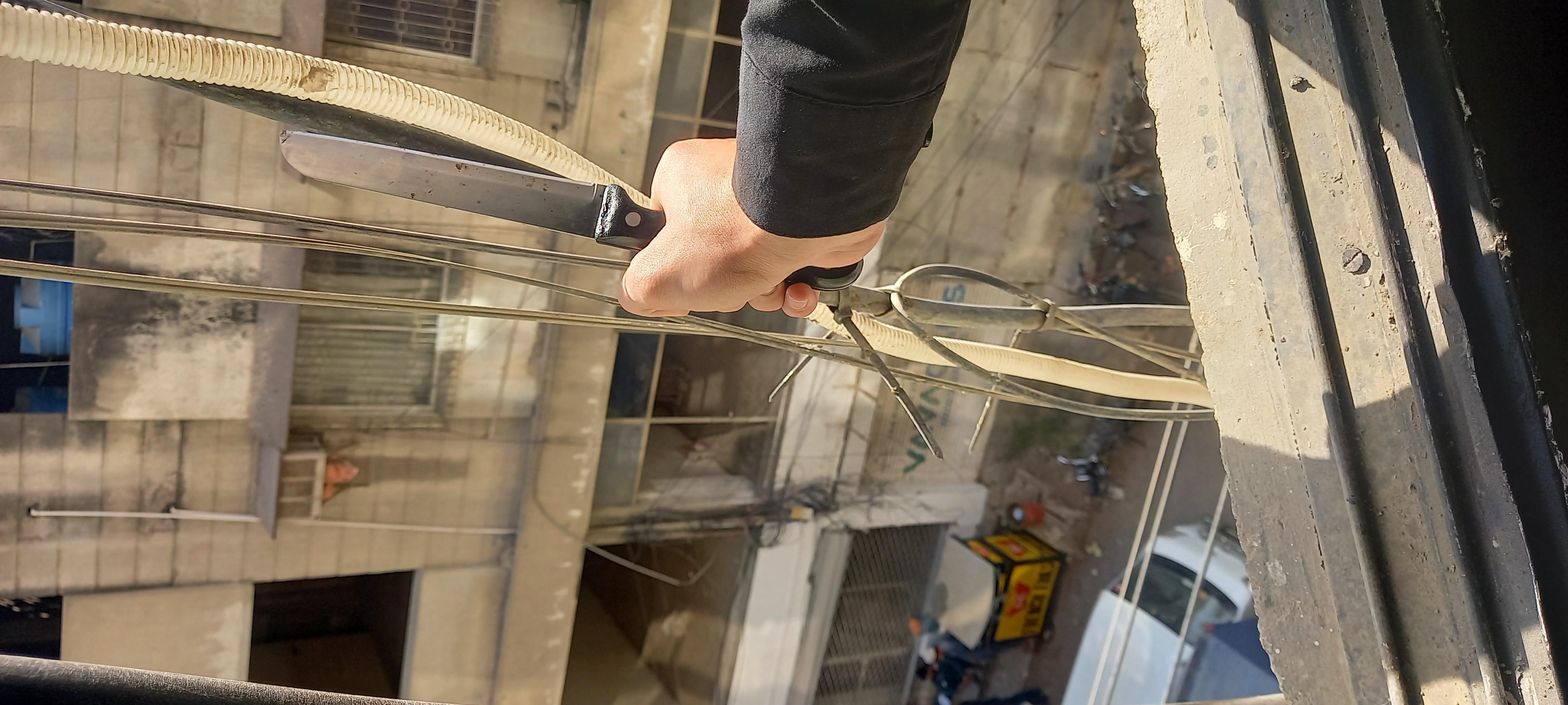knives: (894, 124, 1288, 380)
